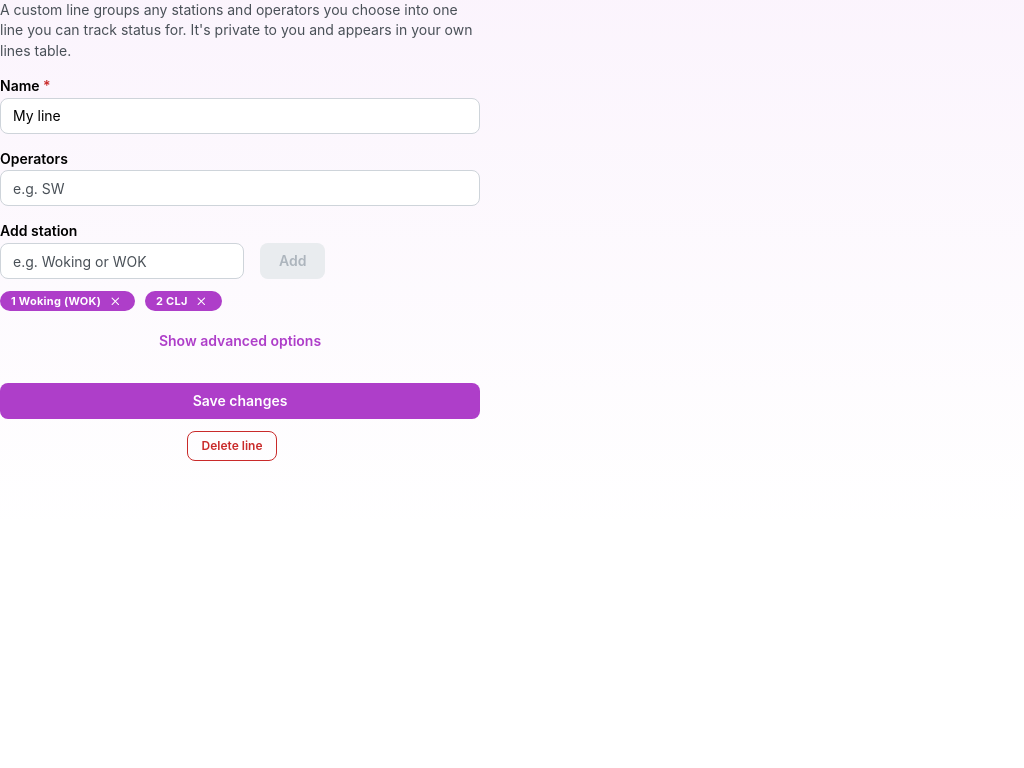
Test: CustomLineForm › opens the delete confirmation modal from the "Delete line" link
The width and height of the screenshot is (1024, 768).
What coordinates should you click on to do the following:
click the button "Delete line"
I would click on:
 (232, 446)
Its box is x1=186 y1=431 x2=278 y2=461.
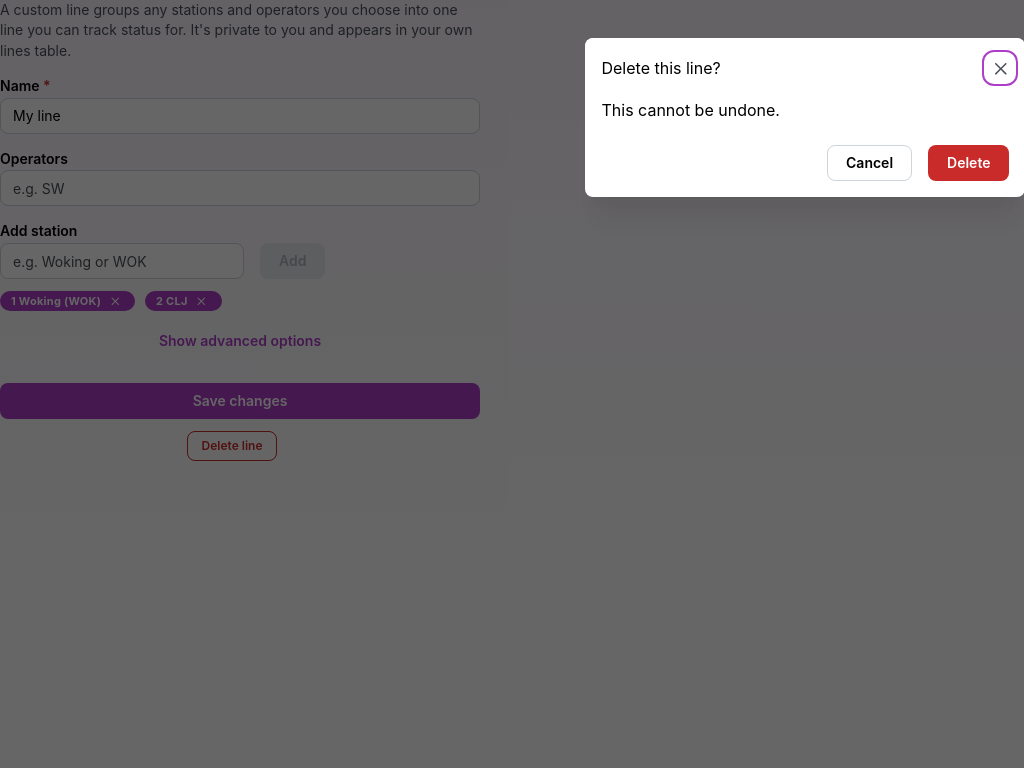
Check: the heading "Delete this line?" is shown, box x1=602 y1=60 x2=721 y2=76
